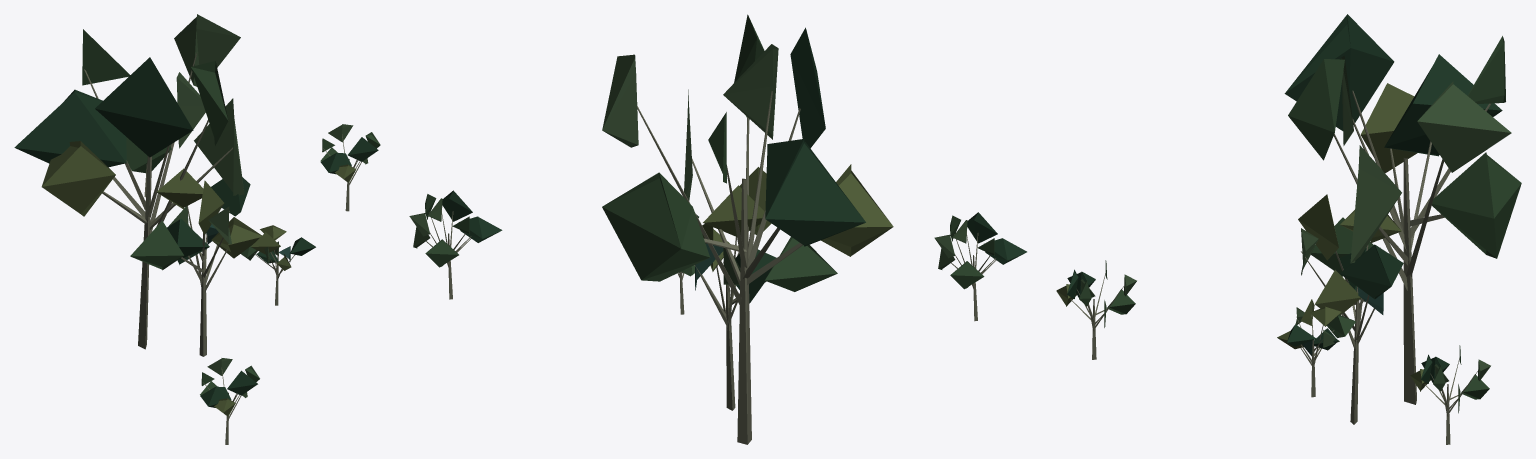
The model's file is forest_20_23.dae.
The picture shows the model from 3 angles, left to right: view 1: azimuth 30°, elevation 25°; view 2: azimuth 150°, elevation 25°; view 3: azimuth 270°, elevation 25°; orthographic projection. The views are drawn at different scales.
Visible parts, largest first — view 1: Node; view 2: Node; view 3: Node.
Boxes of the visible parts, x1=… form: Node: x1=14, y1=14, x2=380, y2=444; Node: x1=409, y1=14, x2=1026, y2=444; Node: x1=1056, y1=14, x2=1521, y2=444.
Bounding box in the file's own units: 3.9 × 3.67 × 3.27.
